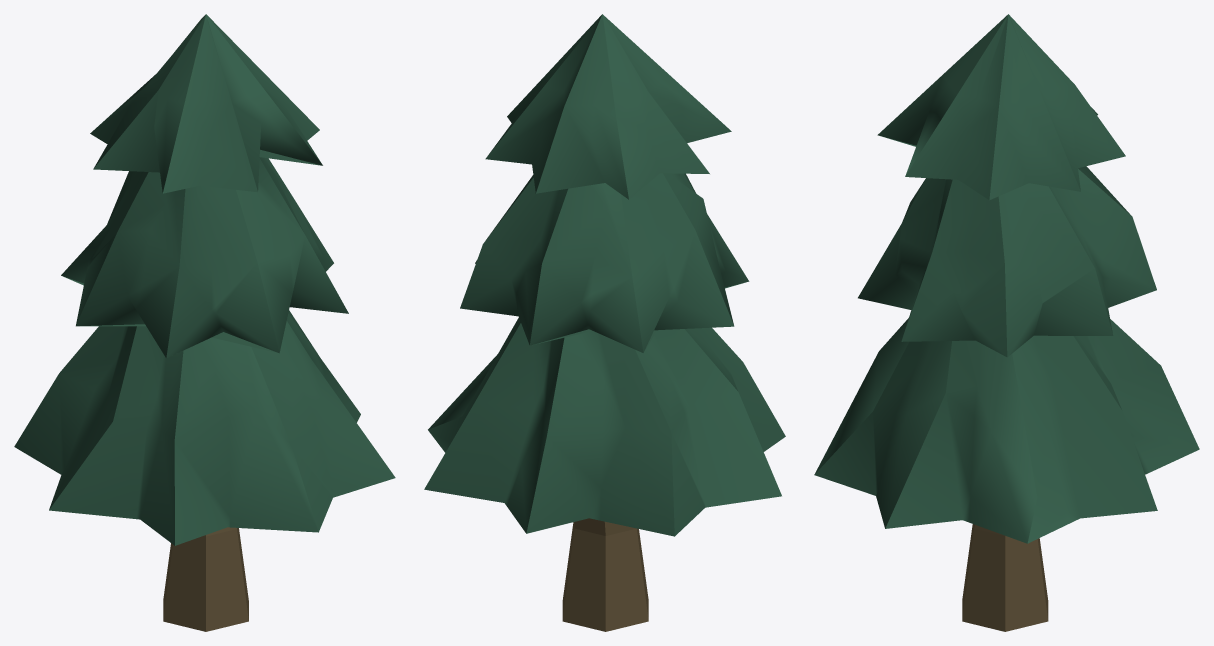
The model's file is Tree1.fbx.
The picture shows the model from 3 angles, left to right: view 1: azimuth 30°, elevation 25°; view 2: azimuth 150°, elevation 25°; view 3: azimuth 270°, elevation 25°; orthographic projection.
Parts seen in each view (by area): view 1: Tree1; view 2: Tree1; view 3: Tree1.
Part boxes in pixels (x1,y1,x2,y2): Tree1: (14, 14, 395, 631); Tree1: (424, 14, 785, 631); Tree1: (814, 14, 1199, 631).
Bounding box in the file's own units: 3.3 × 5.64 × 3.3.
